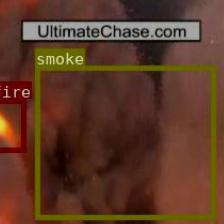fire: (0, 98, 25, 152)
smoke: (34, 65, 214, 219)
